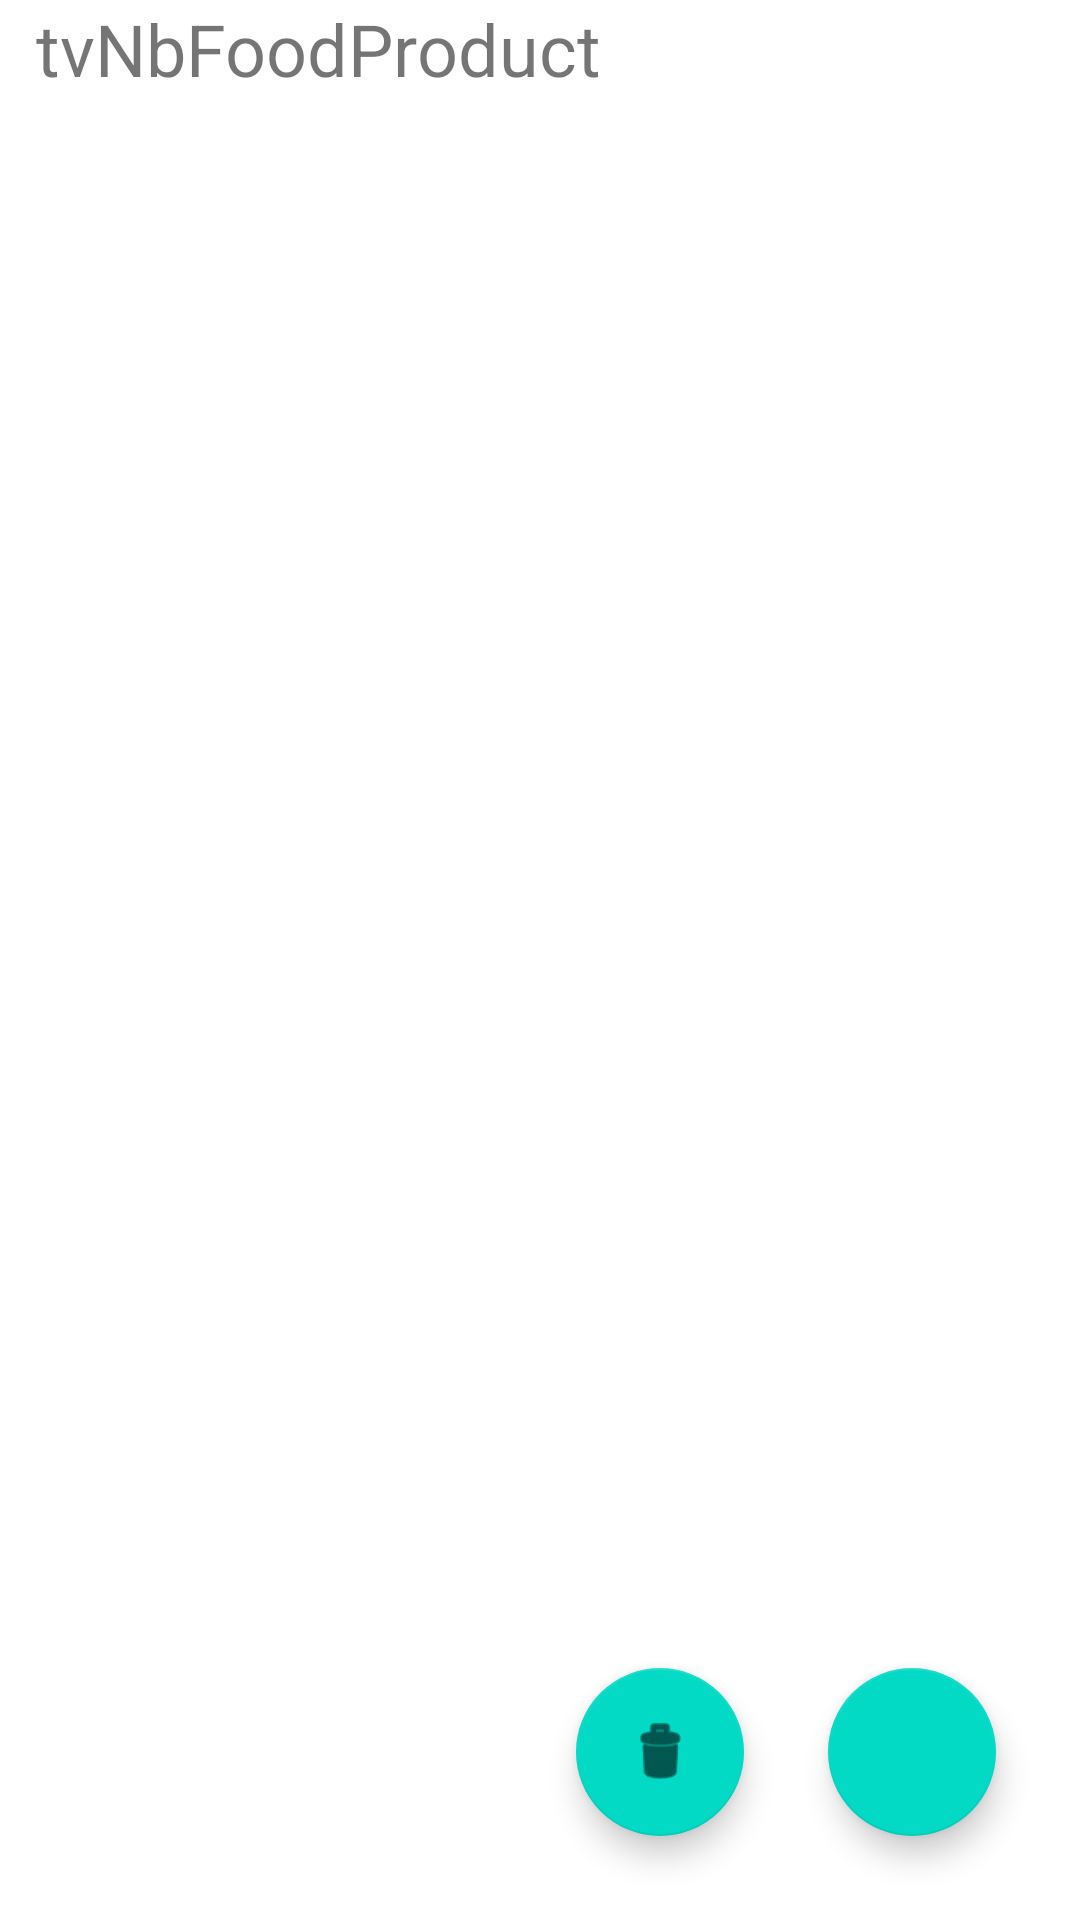

Icons on this 1080x1920 Android screen, each with its box as bbox=[x1, y1, x2, y2]:
delete: bbox=[576, 1668, 744, 1836]
